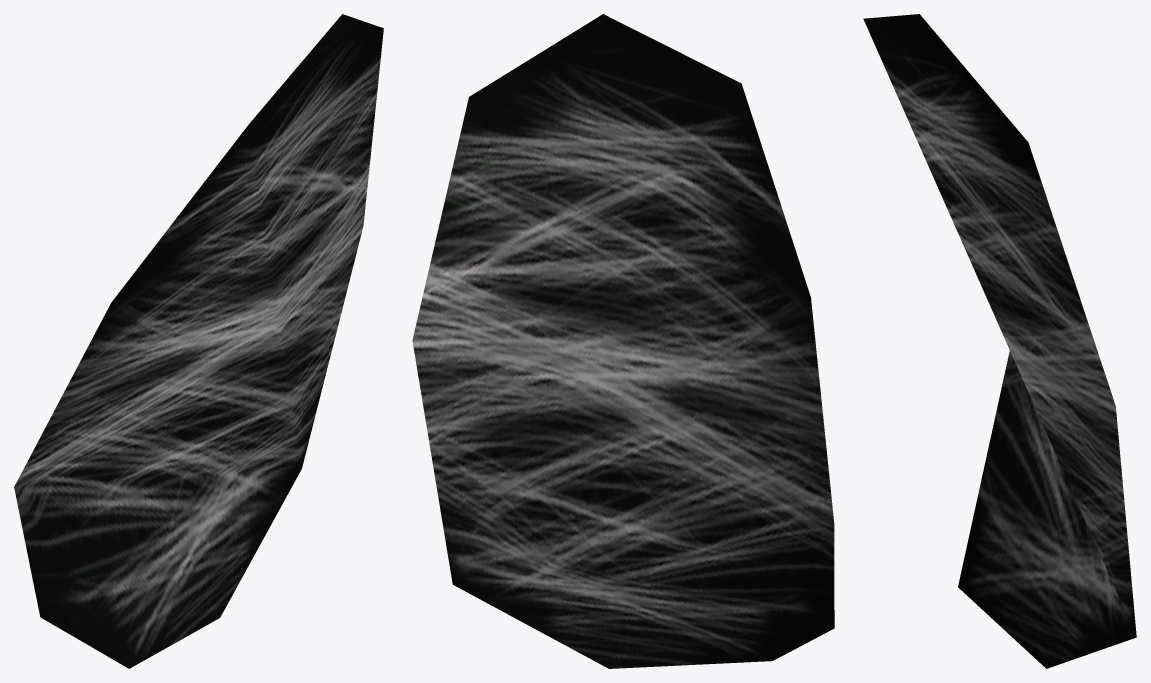
Rendered from MIRKWOOD_SPIDERWEB_COVERS09.fbx.
3 views of the same model, side by side, from view 1: azimuth 30°, elevation 25°; view 2: azimuth 150°, elevation 25°; view 3: azimuth 270°, elevation 25° (orthographic). The views are drawn at different scales.
Visible parts, largest first — view 1: MIRKWOOD_SPIDERWEB_COVERS09; view 2: MIRKWOOD_SPIDERWEB_COVERS09; view 3: MIRKWOOD_SPIDERWEB_COVERS09.
Part boxes in pixels (x1=…): MIRKWOOD_SPIDERWEB_COVERS09: x1=14, y1=14, x2=383, y2=668; MIRKWOOD_SPIDERWEB_COVERS09: x1=412, y1=14, x2=834, y2=668; MIRKWOOD_SPIDERWEB_COVERS09: x1=863, y1=14, x2=1136, y2=668.
Size of the model in its own units: 22034 by 33492 by 12044.
1 material, 1 textured.
